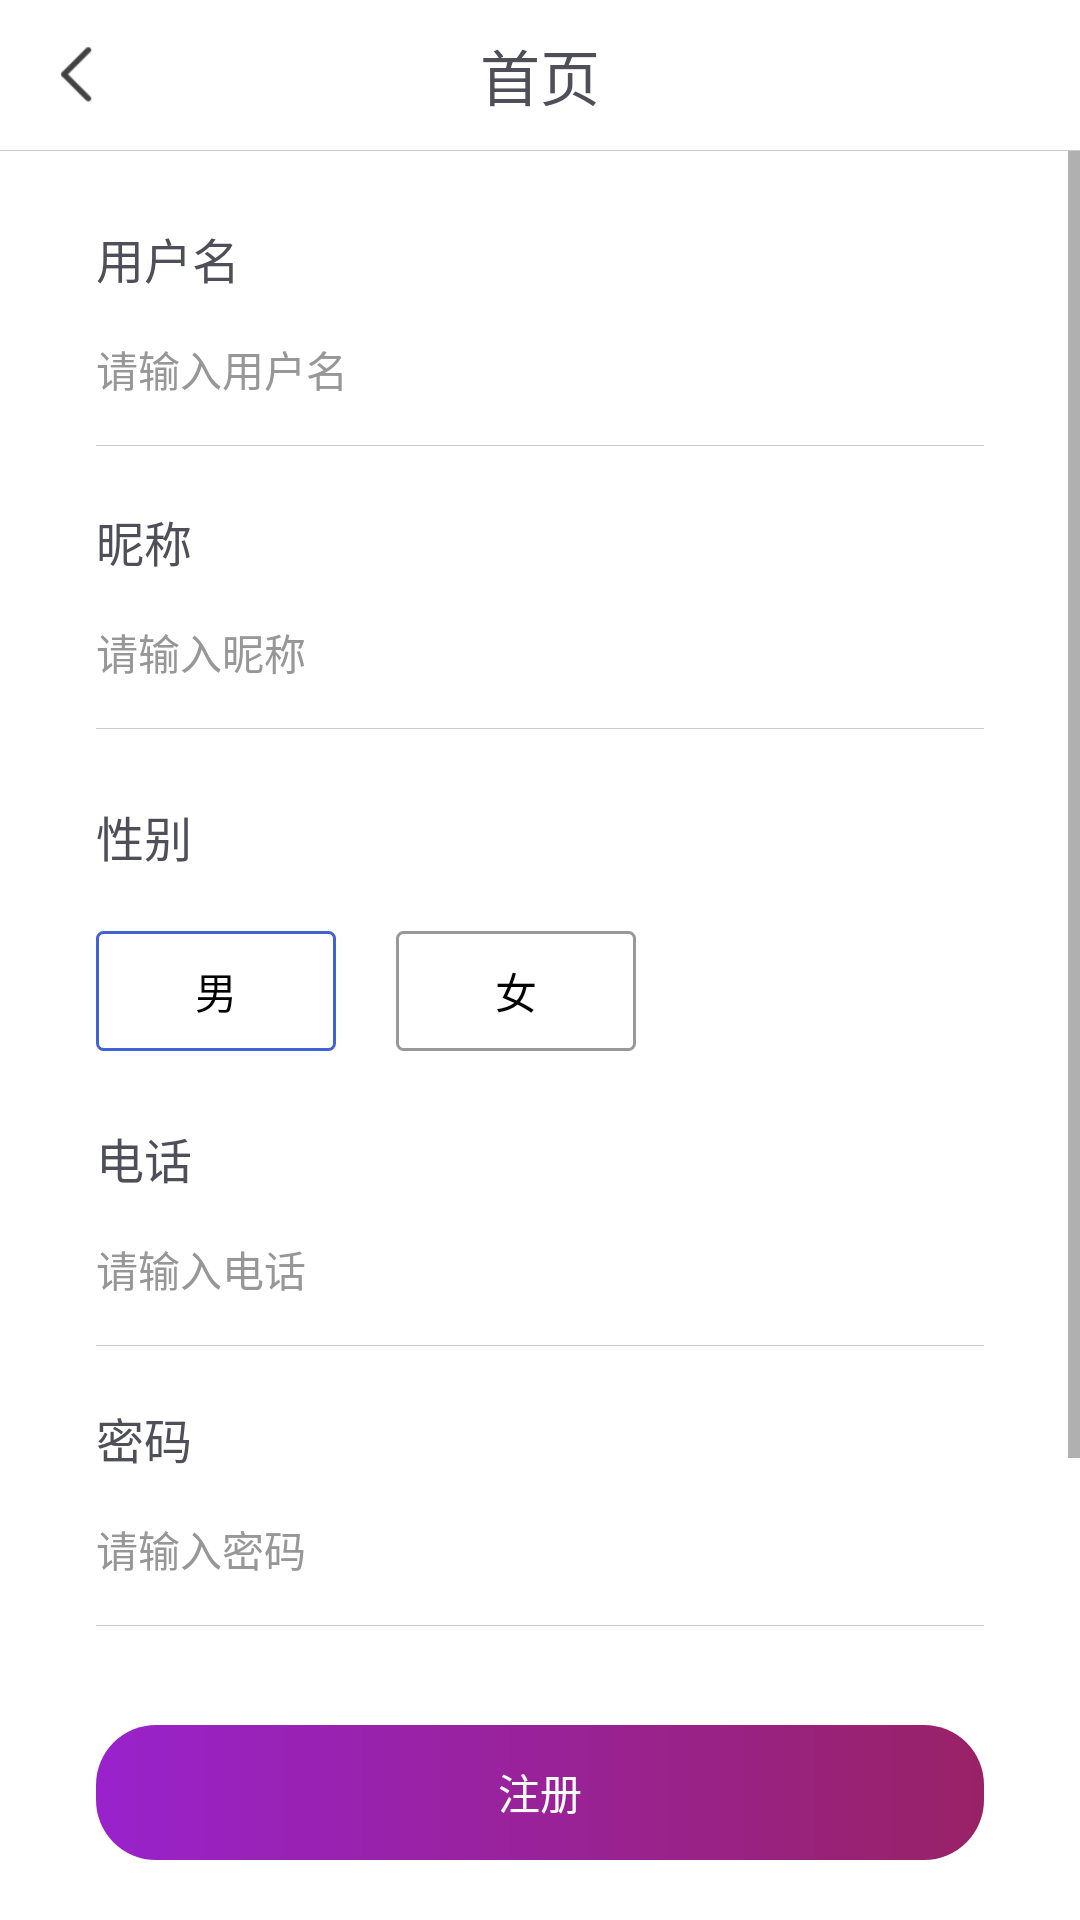

Where icons sit on this 1080x1920 app screen, as (x1, y1, x2, y2):
return: (61, 47, 92, 102)
